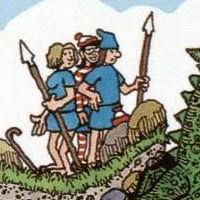wenda: (77, 32, 100, 68)
